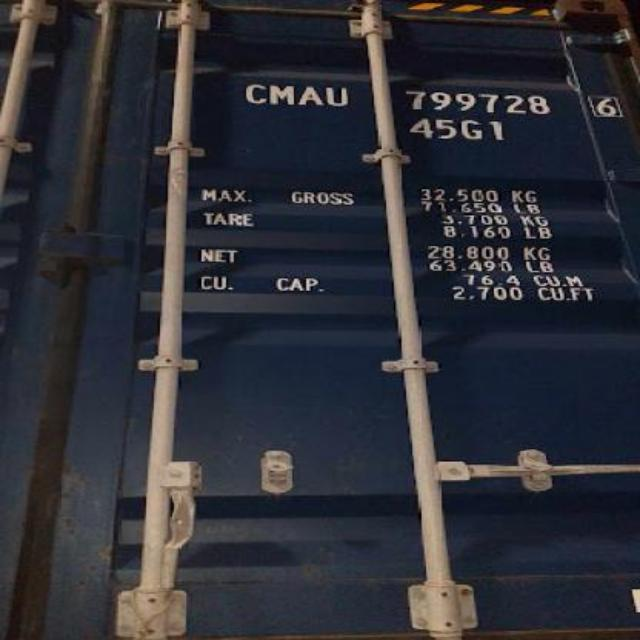2: (498, 89, 526, 115)
6: (586, 96, 618, 118)
7: (398, 86, 430, 110), (478, 91, 498, 112)
8: (526, 90, 562, 116)
9: (430, 87, 454, 113), (456, 84, 478, 112)
A: (294, 80, 326, 110)
C: (240, 81, 268, 105)
M: (266, 82, 296, 108)
U: (324, 81, 356, 107)
